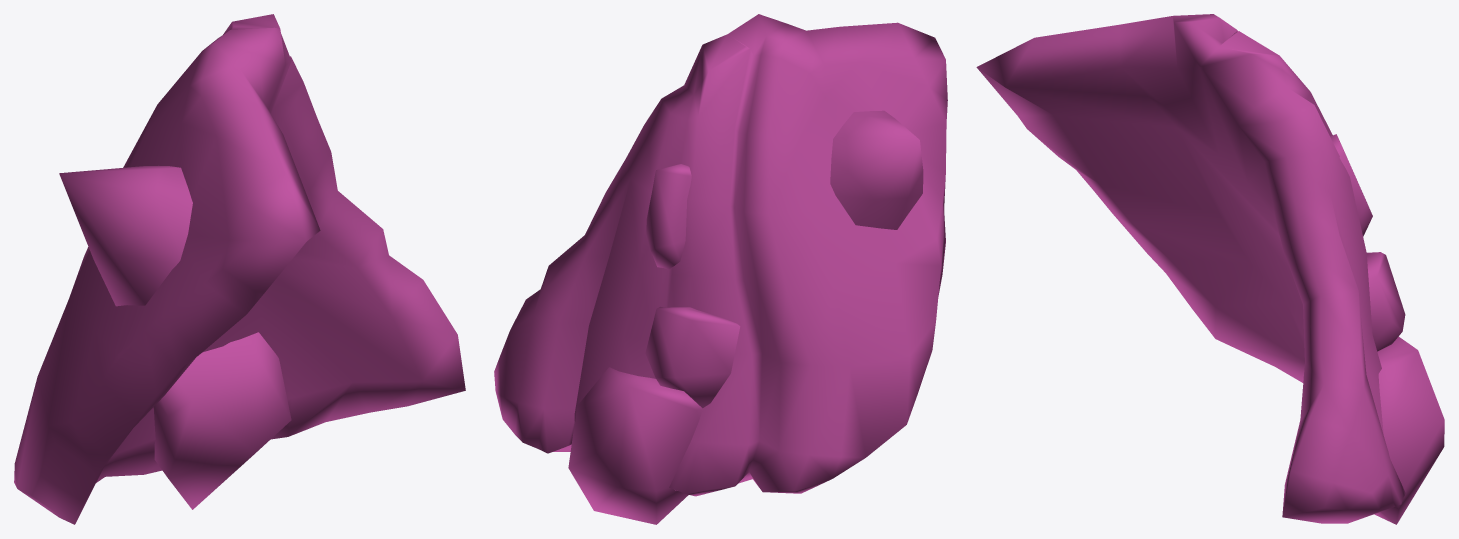
The model's file is eff_meshparticles_coral01_p8.fbx.
3 renders of one model, left to right at view 1: azimuth 30°, elevation 25°; view 2: azimuth 150°, elevation 25°; view 3: azimuth 270°, elevation 25°, orthographic. The views are drawn at different scales.
Parts seen in each view (by area): view 1: p_mesh_hvs_coral_part08; view 2: p_mesh_hvs_coral_part08; view 3: p_mesh_hvs_coral_part08.
Part boxes in pixels (<box>): p_mesh_hvs_coral_part08: <box>14,14,465,524</box>; p_mesh_hvs_coral_part08: <box>494,14,947,524</box>; p_mesh_hvs_coral_part08: <box>976,14,1444,524</box>.
Bounding box in the file's own units: 3.86 × 4.45 × 3.93.
